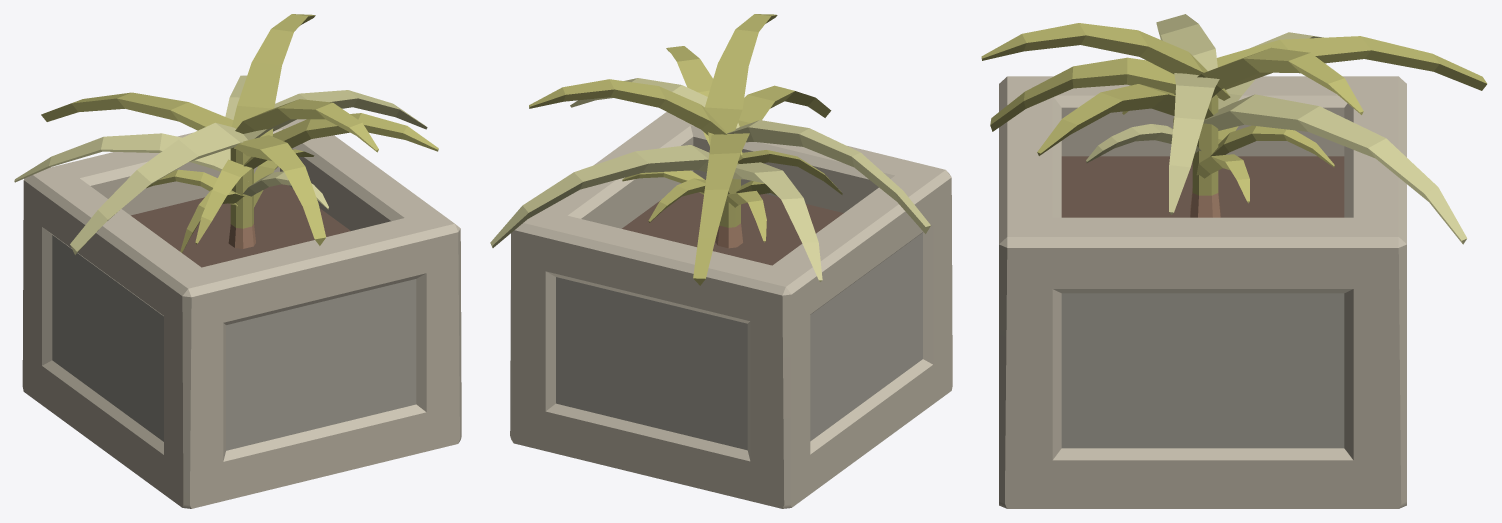
The model's file is planta_1.fbx.
The picture shows the model from 3 angles, left to right: view 1: azimuth 30°, elevation 25°; view 2: azimuth 150°, elevation 25°; view 3: azimuth 270°, elevation 25°; orthographic projection. The views are drawn at different scales.
Visible parts, largest first — view 1: caja_estructura, planta1; view 2: caja_estructura, planta1; view 3: caja_estructura, planta1.
Part boxes in pixels (x1,y1,x2,y2): caja_estructura: (22, 119, 461, 508); planta1: (14, 14, 438, 254); caja_estructura: (510, 112, 952, 508); planta1: (490, 14, 930, 285); caja_estructura: (999, 76, 1406, 508); planta1: (981, 14, 1487, 244).
Size of the model in its own units: 80.53 by 73.24 by 80.71.
